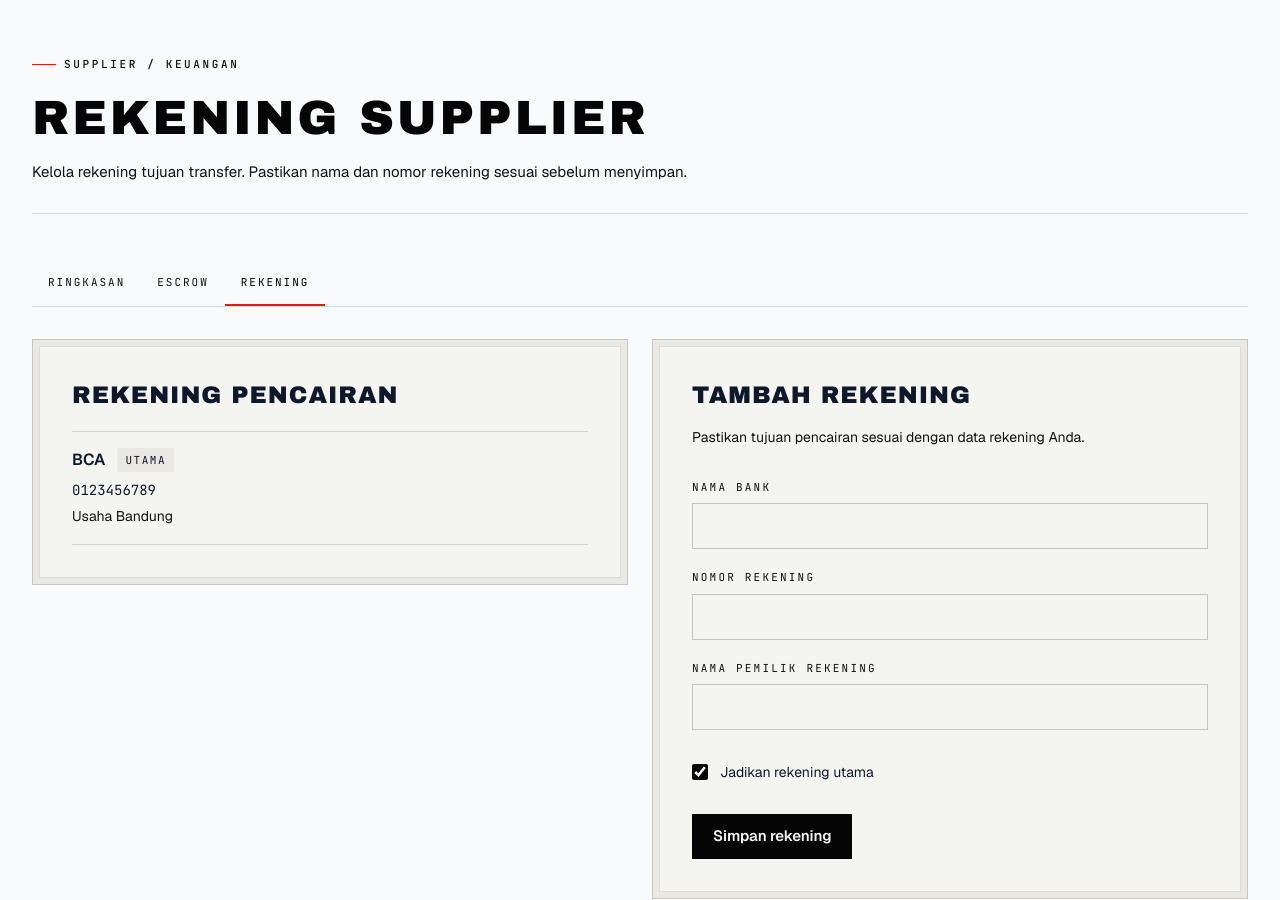
Supplier finance route views › asks before replacing the primary account and preserves the existing PUT payload
Step 1. Type "BRI" into the field labelled "Nama bank" → coordinates (950, 526), box [692,503,1208,549]
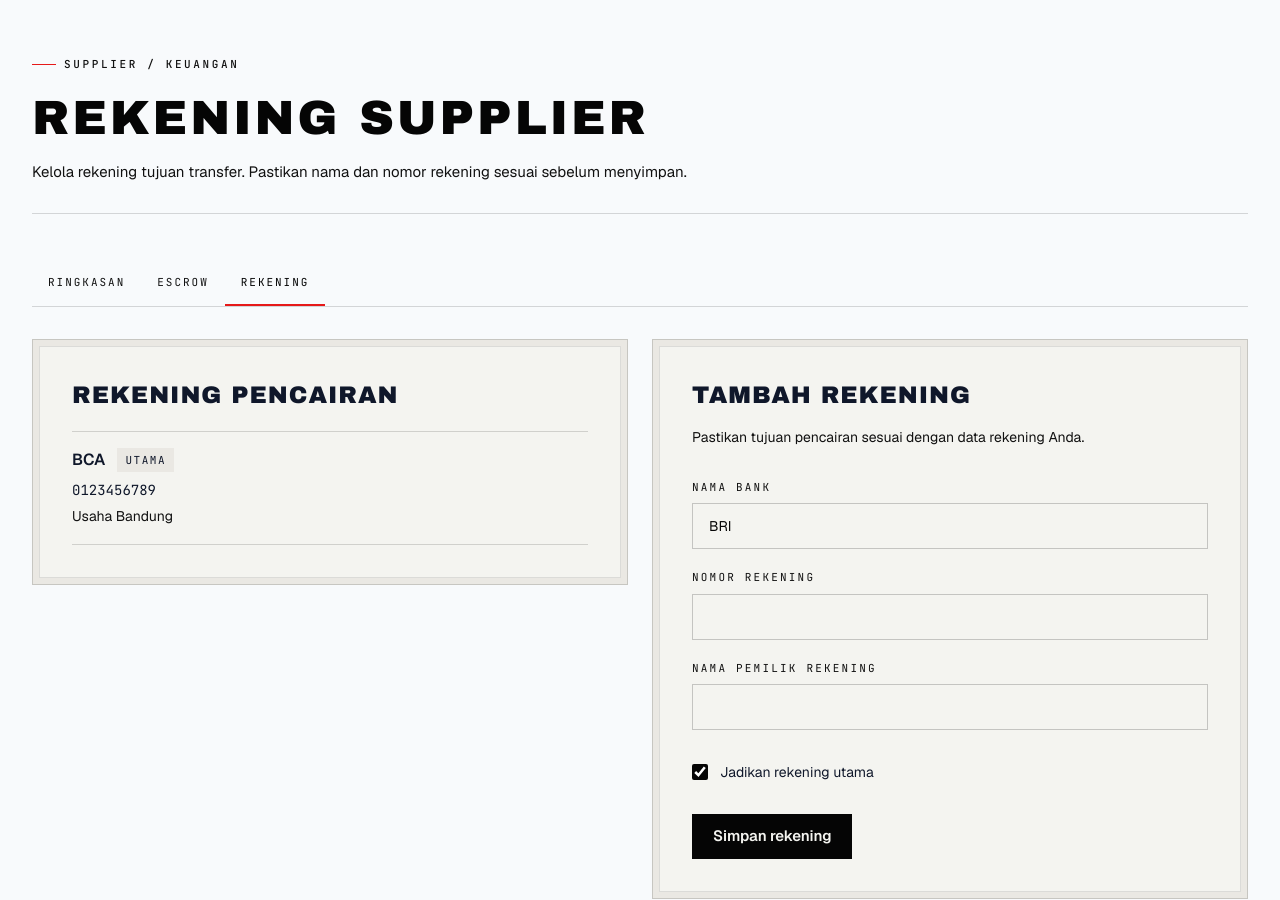
Step 2. Type "0012345" into the field labelled "Nomor rekening" → coordinates (950, 617), box [692,594,1208,640]
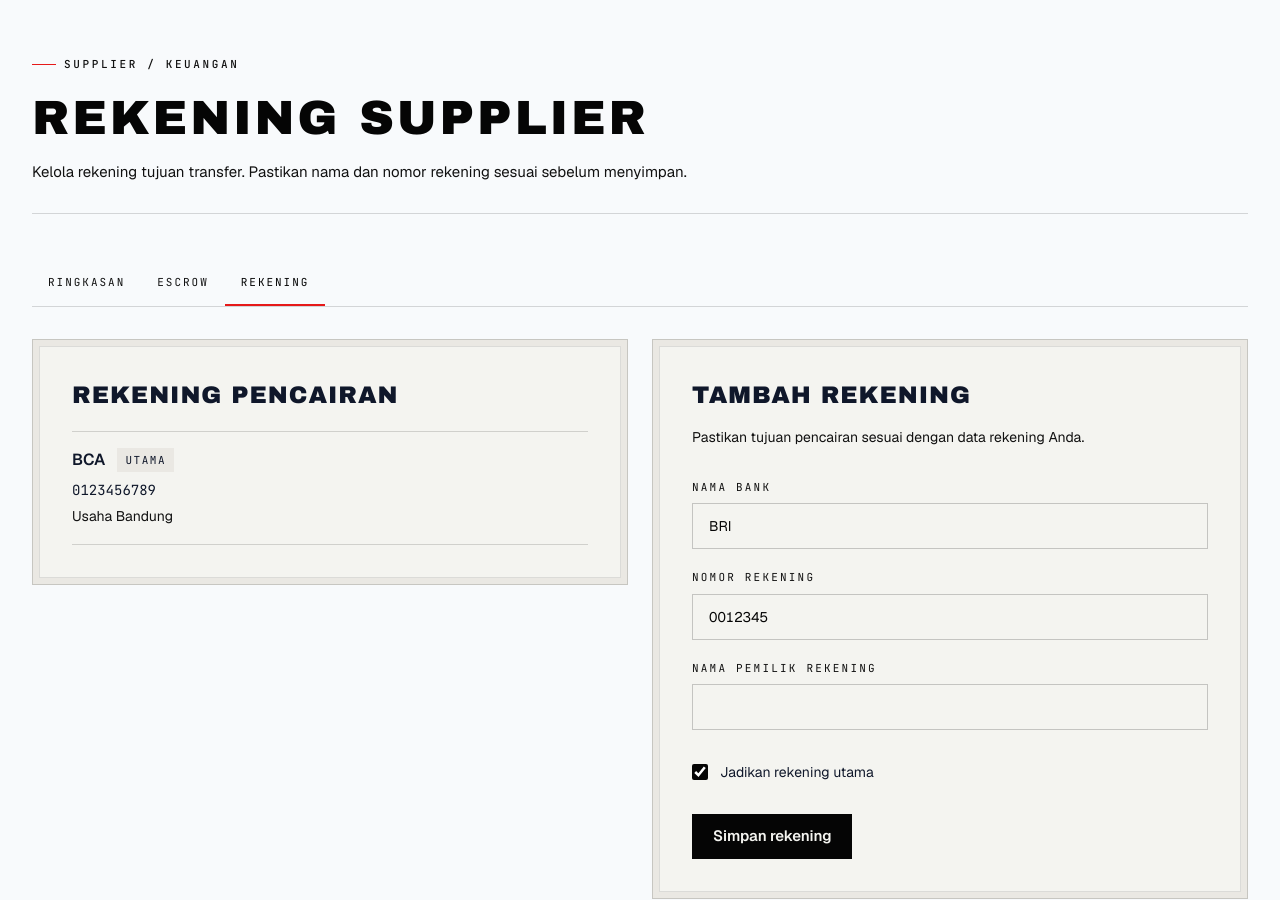
Step 3. Type "Pemilik Uji" into the field labelled "Nama pemilik rekening" → coordinates (950, 707), box [692,684,1208,730]
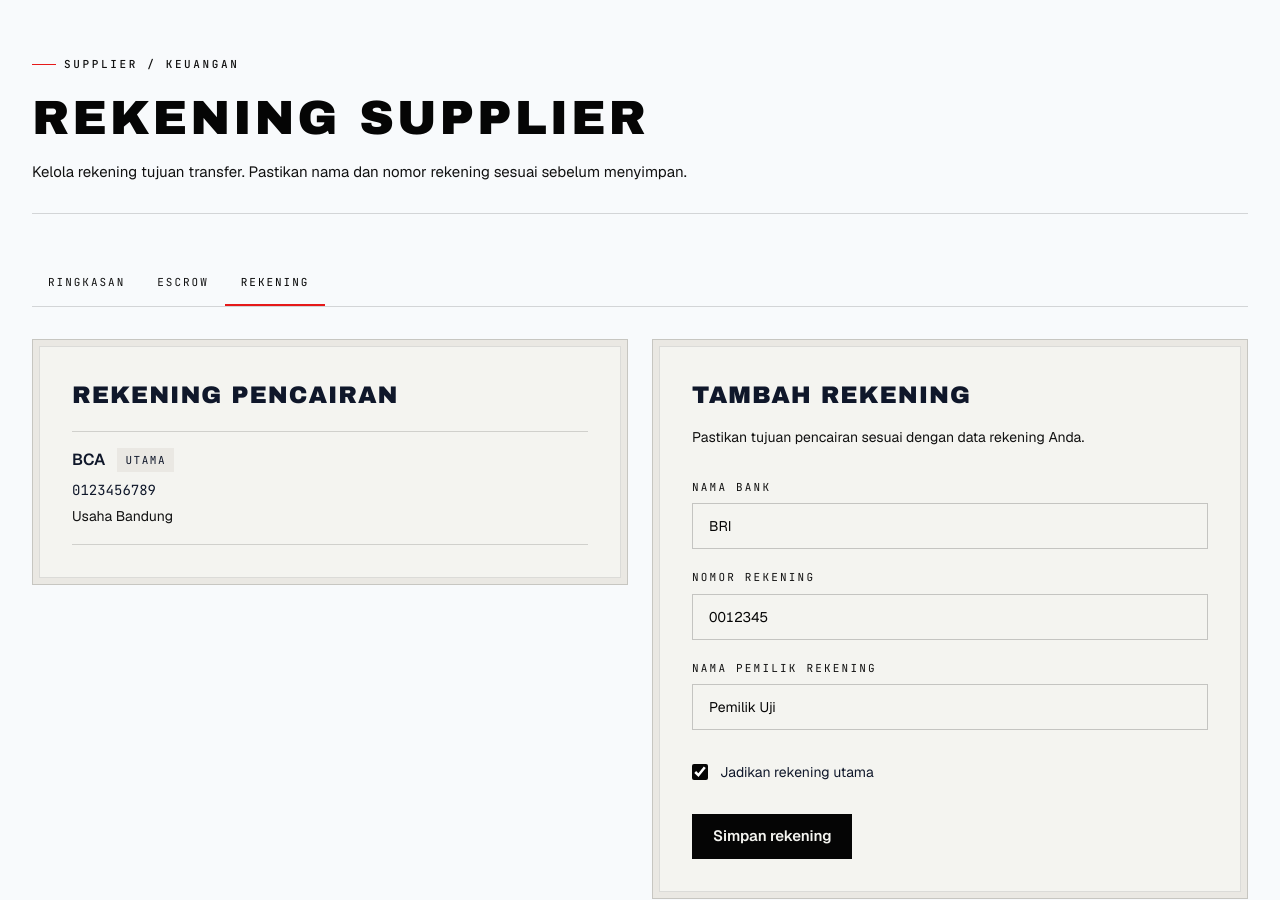
Step 4. Click the button "Simpan rekening" → coordinates (772, 836), box [692,814,852,859]
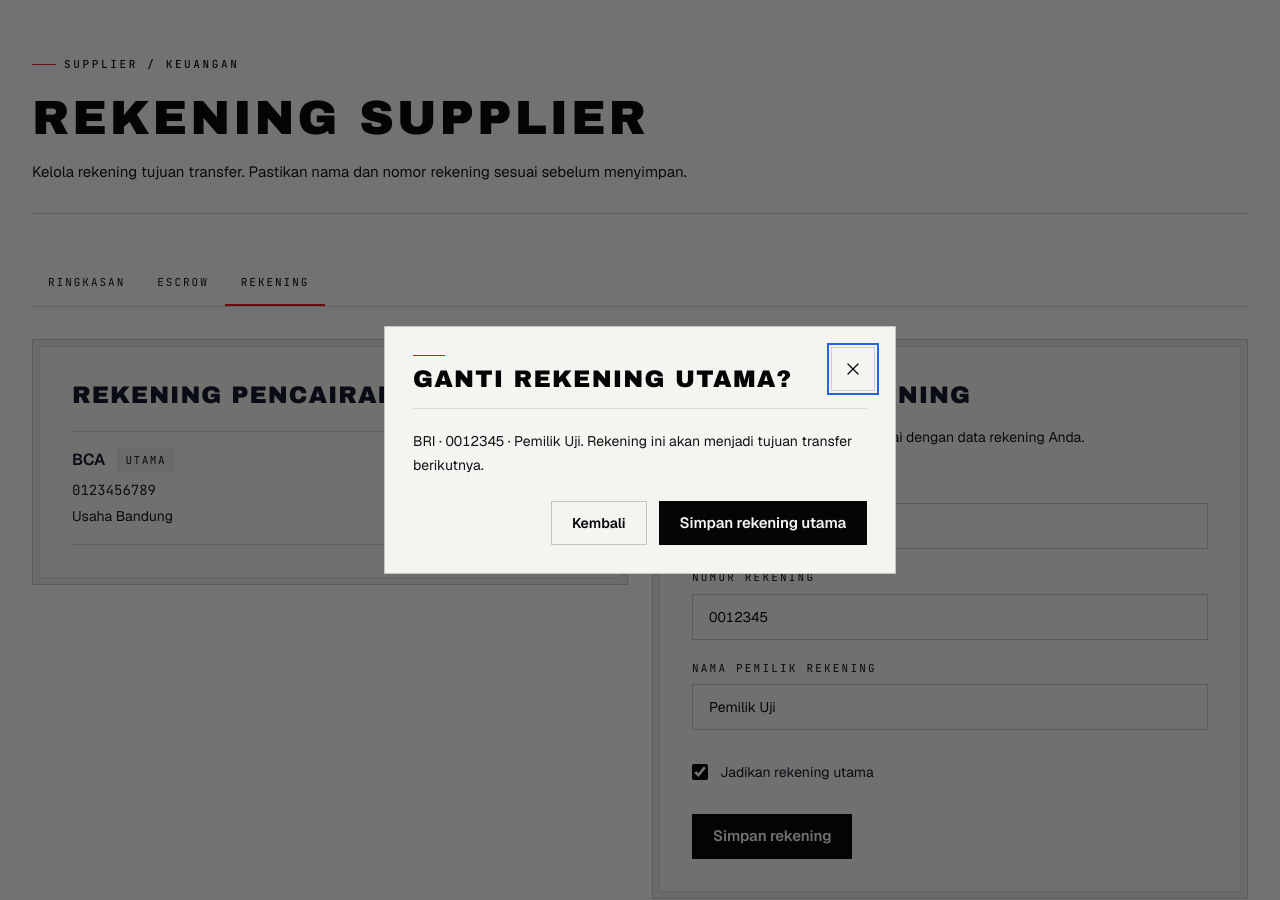
Step 5. Click the button "Simpan rekening utama" → coordinates (763, 523), box [659,500,867,545]
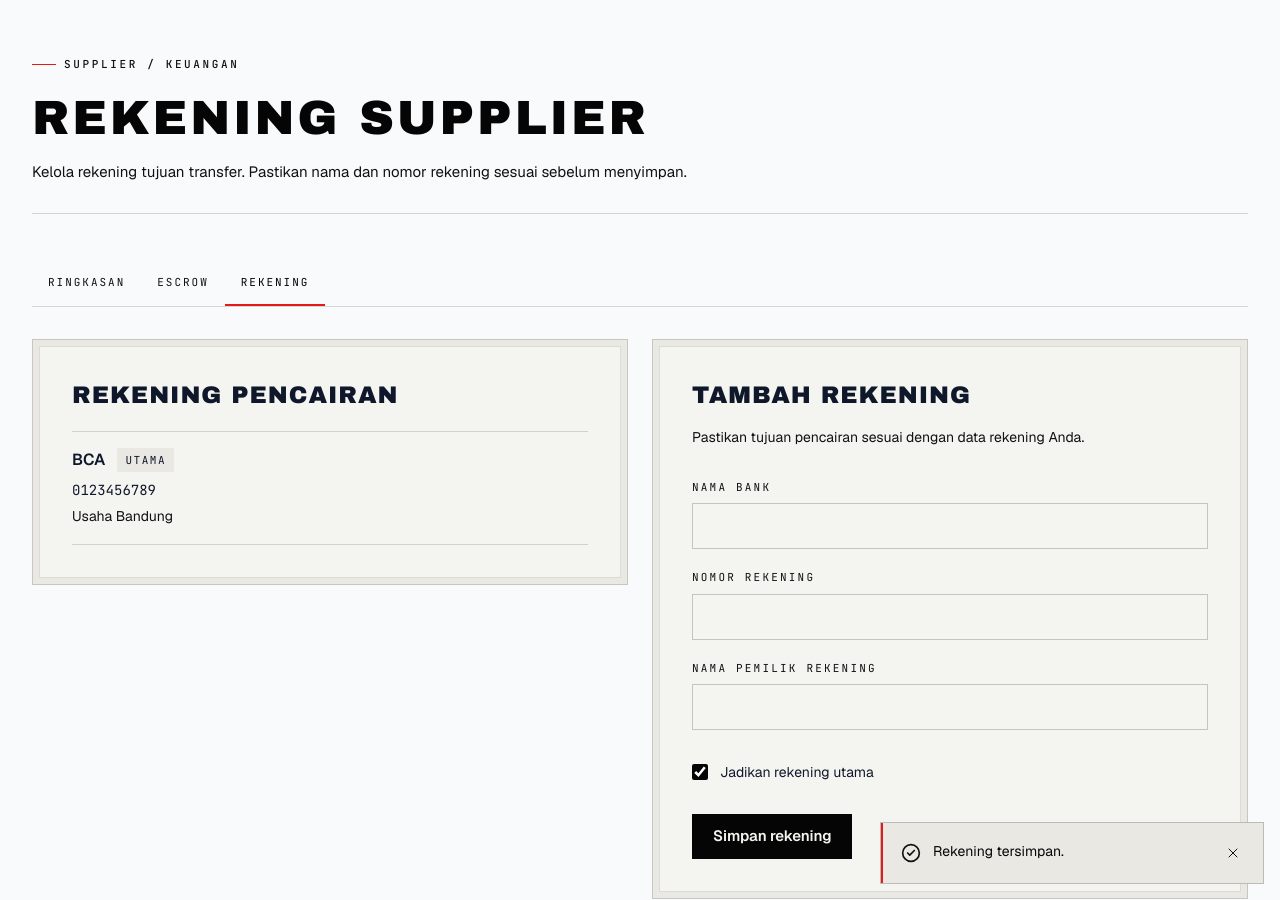
Now the text "Rekening tersimpan." is shown, box [933,842,1064,860]
